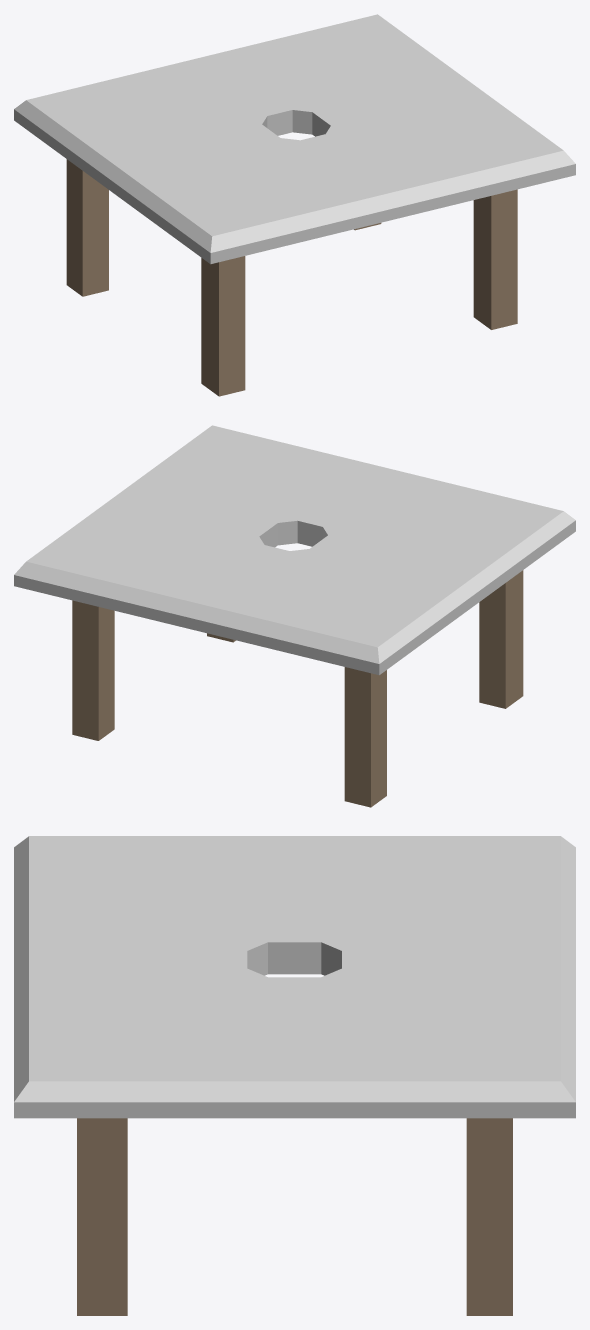
Rendered from Mesa de Exterior.fbx.
3 renders of one model, top to bottom at view 1: azimuth 30°, elevation 25°; view 2: azimuth 150°, elevation 25°; view 3: azimuth 270°, elevation 25°, orthographic. The views are drawn at different scales.
Parts seen in each view (by area): view 1: Mesa_de_Exterior; view 2: Mesa_de_Exterior; view 3: Mesa_de_Exterior.
Part boxes in pixels (x1,y1,x2,y2): Mesa_de_Exterior: (14, 14, 575, 396); Mesa_de_Exterior: (14, 425, 575, 807); Mesa_de_Exterior: (14, 836, 575, 1315).
Size of the model in its own units: 2.92 by 1.36 by 2.73.
